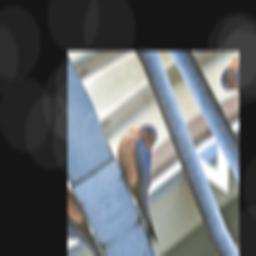Swallow: (102, 115, 201, 256)
